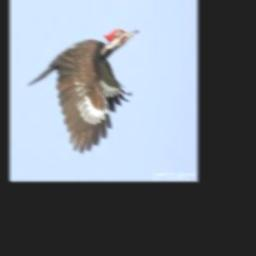Woodpecker: (27, 28, 138, 154)
